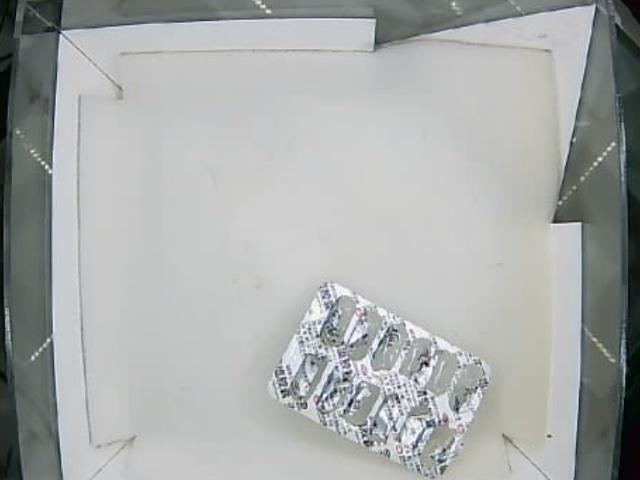Medicine: (262, 283, 488, 478)
